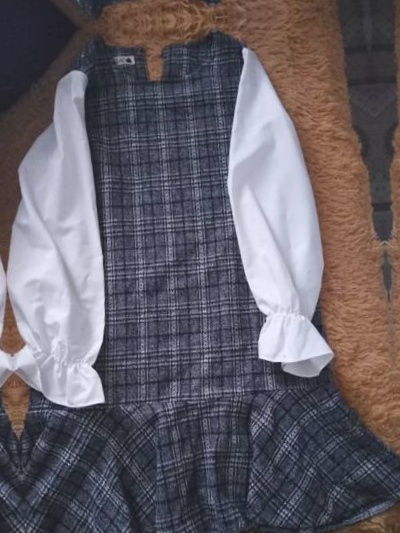Dress: (0, 18, 380, 533), (0, 46, 28, 533), (0, 0, 338, 24), (395, 0, 400, 533)
